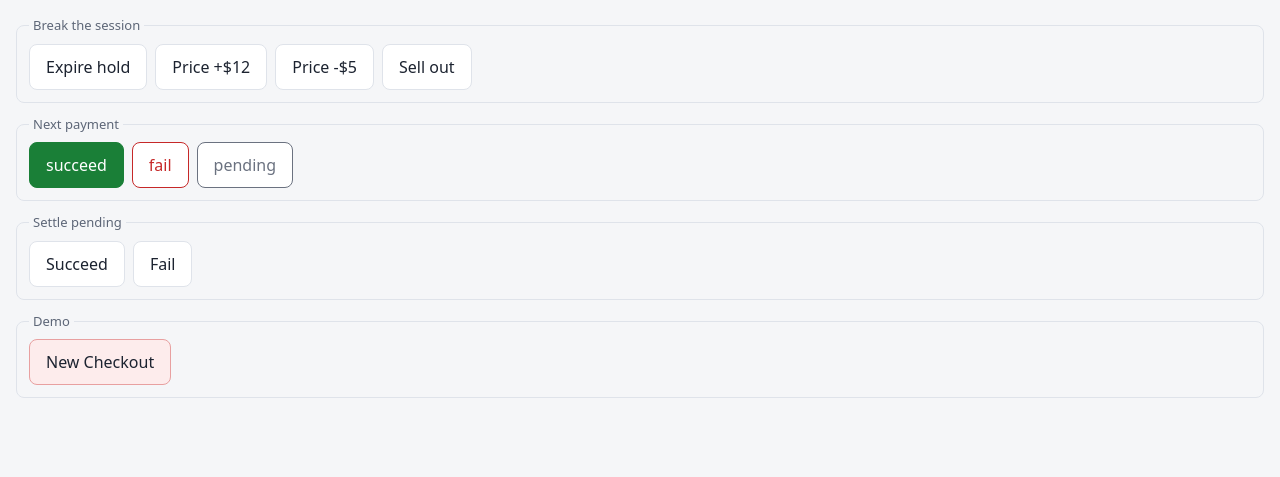
Test: ChaosPanel › shows the server's error for a refused action
Click the button with test id "chaos-settle-succeeded" at [77, 264], box [29,240,125,286]
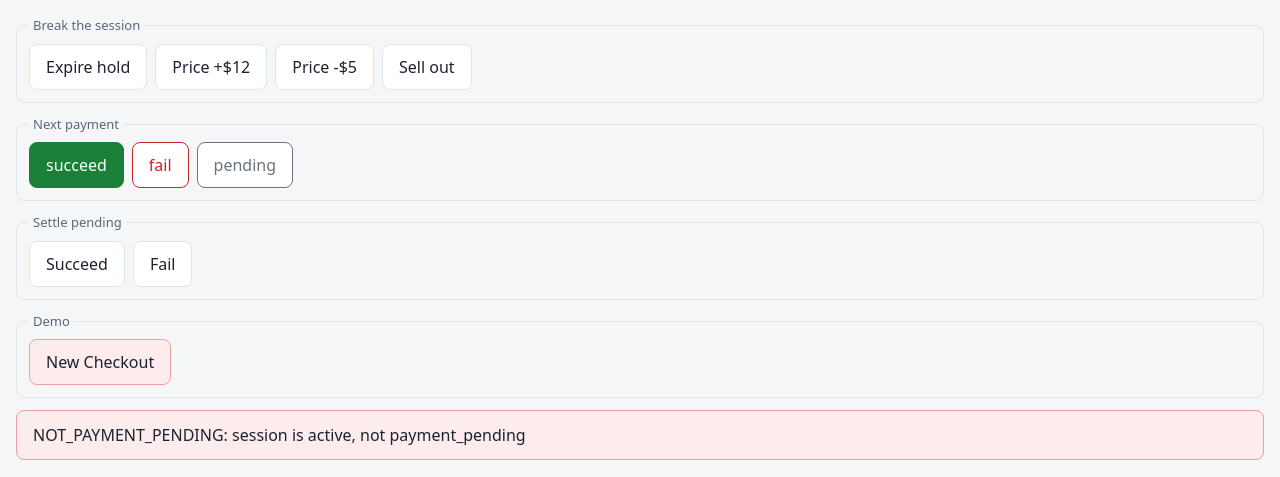
Check: the message with test id "chaos-result" reads "NOT_PAYMENT_PENDING: session is active, not payment_pending", box [33,424,526,446]
